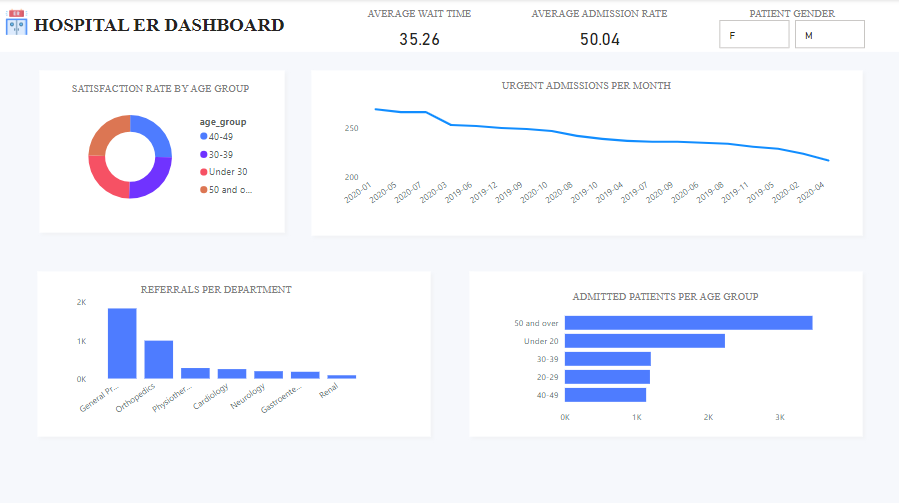

What the dashboard file says about the page in this screenshot:
{"tool":"powerbi","page":{"name":"DASHBOARD","canvas":[1280,720],"ordinal":0},"visuals":[{"type":"shape","box":[46.8,0,1184.9,75.1],"z":0},{"type":"card","title":"AVERAGE WAIT TIME","fields":{"Values":["Sum(Query1.avg_wait_time)"]},"box":[504.6,12.8,180,75.1],"z":1000},{"type":"card","title":"AVERAGE ADMISSION RATE","fields":{"Values":["Avg(Query7.admission_rate_percentage)"]},"box":[741.3,12.8,216.9,75.1],"z":2000},{"type":"advancedSlicerVisual","title":"PATIENT GENDER","fields":{"Values":["Query2.patient_gender"]},"box":[1014.8,12.8,216.9,62.4],"z":3000},{"type":"shape","box":[46.8,87.9,372.8,252.3],"z":4000},{"type":"shape","box":[43.9,377,575.4,252.3],"z":5000},{"type":"donutChart","title":"SATISFACTION RATE BY AGE GROUP","fields":{"Category":["Query3.age_group"],"Y":["Sum(Query3.avg_sat_score)"]},"box":[80.8,119.1,293.4,197],"z":7000},{"type":"columnChart","title":"REFERRALS PER DEPARTMENT","fields":{"Category":["Query5.department_referral"],"Y":["Sum(Query5.num_referrals)"]},"box":[82.2,403.9,449.3,197],"z":8000},{"type":"shape","box":[656.2,377,575.4,252.3],"z":8001},{"type":"barChart","title":"ADMITTED PATIENTS PER AGE GROUP","fields":{"Category":["Query4.age_group"],"Y":["Sum(Query4.num_patients)"]},"box":[718.6,413.9,449.3,197],"z":8002},{"type":"shape","box":[432.3,92.1,799.4,252.3],"z":8003},{"type":"lineChart","title":"URGENT ADMISSIONS PER MONTH","fields":{"Category":["Query6.month"],"Y":["Sum(Query6.num_urgent_admissions)"]},"box":[469.1,114.8,724.3,197],"z":8004}]}

Visuals, with their boxes in screenshot pixels (x1, y1, x2, y2), scaled from the page's 1280x720 canvas onto the 899x503 screenshot:
shape: {"left": 33, "top": 0, "right": 865, "bottom": 52}
"AVERAGE WAIT TIME" card: {"left": 354, "top": 9, "right": 481, "bottom": 61}
"AVERAGE ADMISSION RATE" card: {"left": 521, "top": 9, "right": 673, "bottom": 61}
"PATIENT GENDER" advancedSlicerVisual: {"left": 713, "top": 9, "right": 865, "bottom": 53}
shape: {"left": 33, "top": 61, "right": 295, "bottom": 238}
shape: {"left": 31, "top": 263, "right": 435, "bottom": 440}
"SATISFACTION RATE BY AGE GROUP" donutChart: {"left": 57, "top": 83, "right": 263, "bottom": 221}
"REFERRALS PER DEPARTMENT" columnChart: {"left": 58, "top": 282, "right": 373, "bottom": 420}
shape: {"left": 461, "top": 263, "right": 865, "bottom": 440}
"ADMITTED PATIENTS PER AGE GROUP" barChart: {"left": 505, "top": 289, "right": 820, "bottom": 427}
shape: {"left": 304, "top": 64, "right": 865, "bottom": 241}
"URGENT ADMISSIONS PER MONTH" lineChart: {"left": 329, "top": 80, "right": 838, "bottom": 218}
